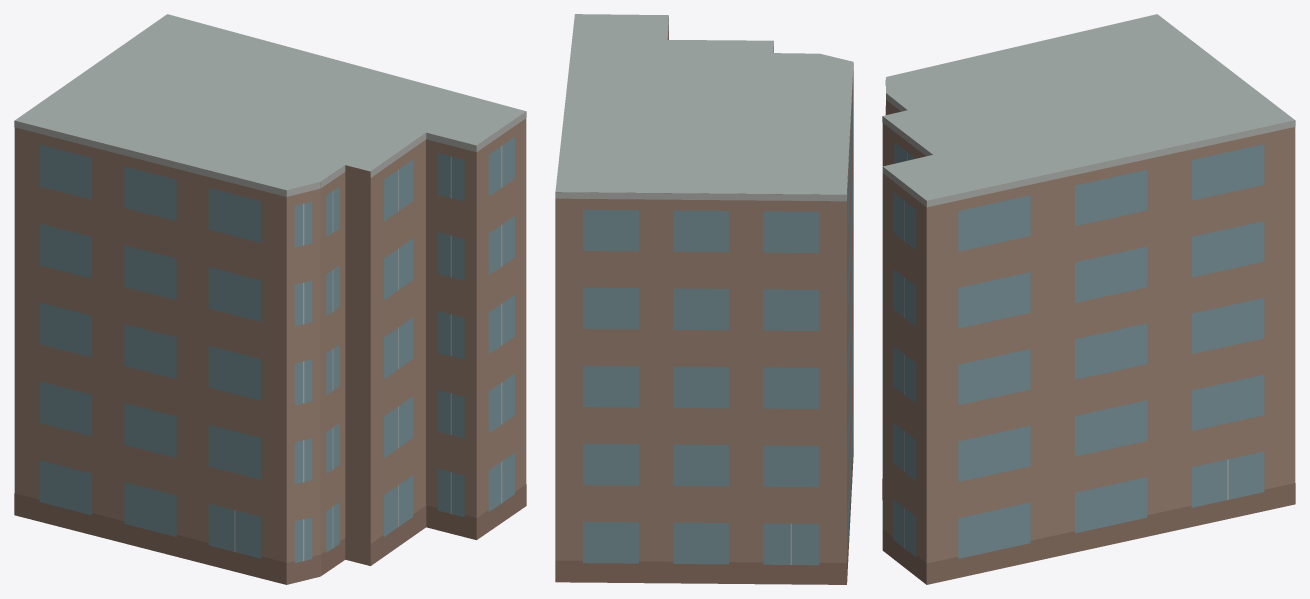
Rendered from survey-upis-32872060.glb.
3 views of the same model, side by side, from view 1: azimuth 30°, elevation 25°; view 2: azimuth 150°, elevation 25°; view 3: azimuth 270°, elevation 25° (orthographic). The views are drawn at different scales.
Parts seen in each view (by area): view 1: survey-upis-32872060.tmp; view 2: survey-upis-32872060.tmp; view 3: survey-upis-32872060.tmp.
Part boxes in pixels (x1,y1,x2,y2): survey-upis-32872060.tmp: (14, 14, 526, 584); survey-upis-32872060.tmp: (555, 14, 853, 584); survey-upis-32872060.tmp: (882, 14, 1295, 584).
Bounding box in the file's own units: 15.04 × 14.4 × 14.04.
